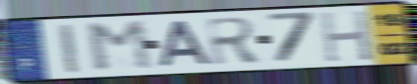7: (266, 10, 318, 67)
A: (157, 19, 214, 69)
H: (318, 9, 375, 64)
I: (56, 22, 82, 76)
M: (83, 18, 157, 74)
R: (204, 15, 266, 68)
